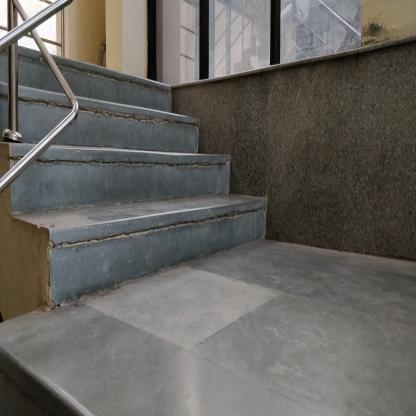stairs: (56, 142, 222, 316)
